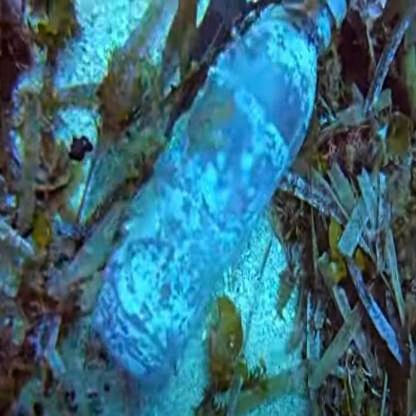pbottle: (122, 8, 310, 366)
